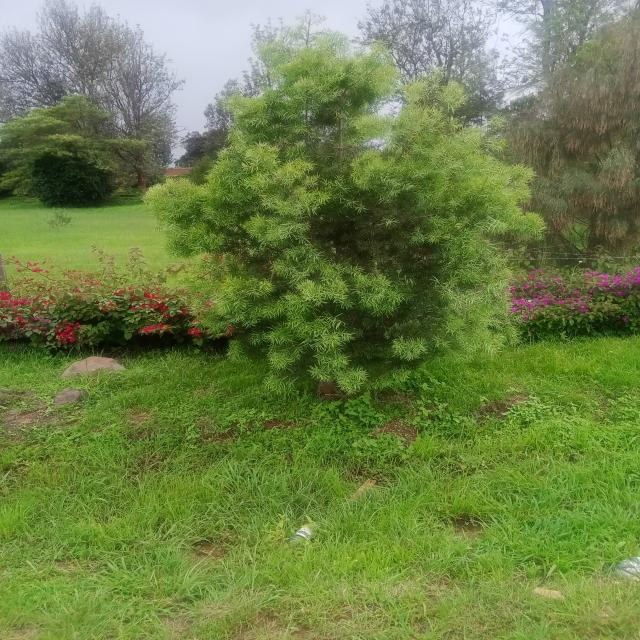Podocarpus falcatus: (146, 49, 554, 419)
